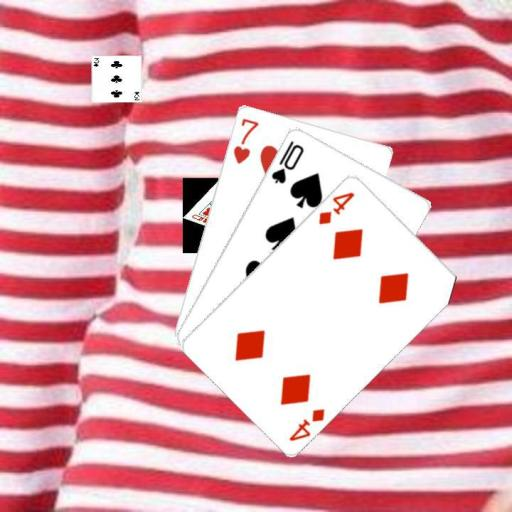10S: (267, 136, 306, 185)
4D: (315, 188, 356, 226), (286, 405, 326, 442)
7H: (230, 115, 260, 166)
